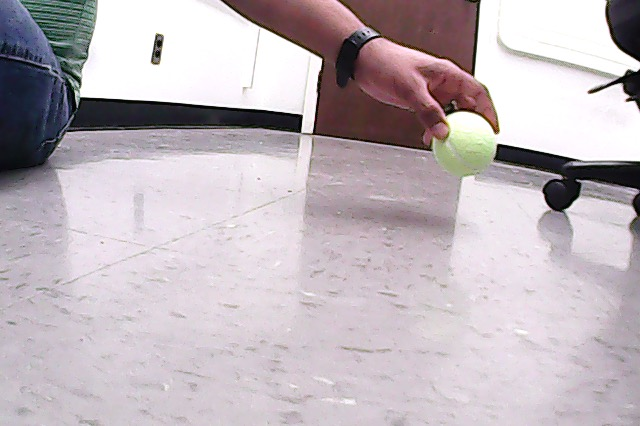ball: (430, 109, 499, 180)
